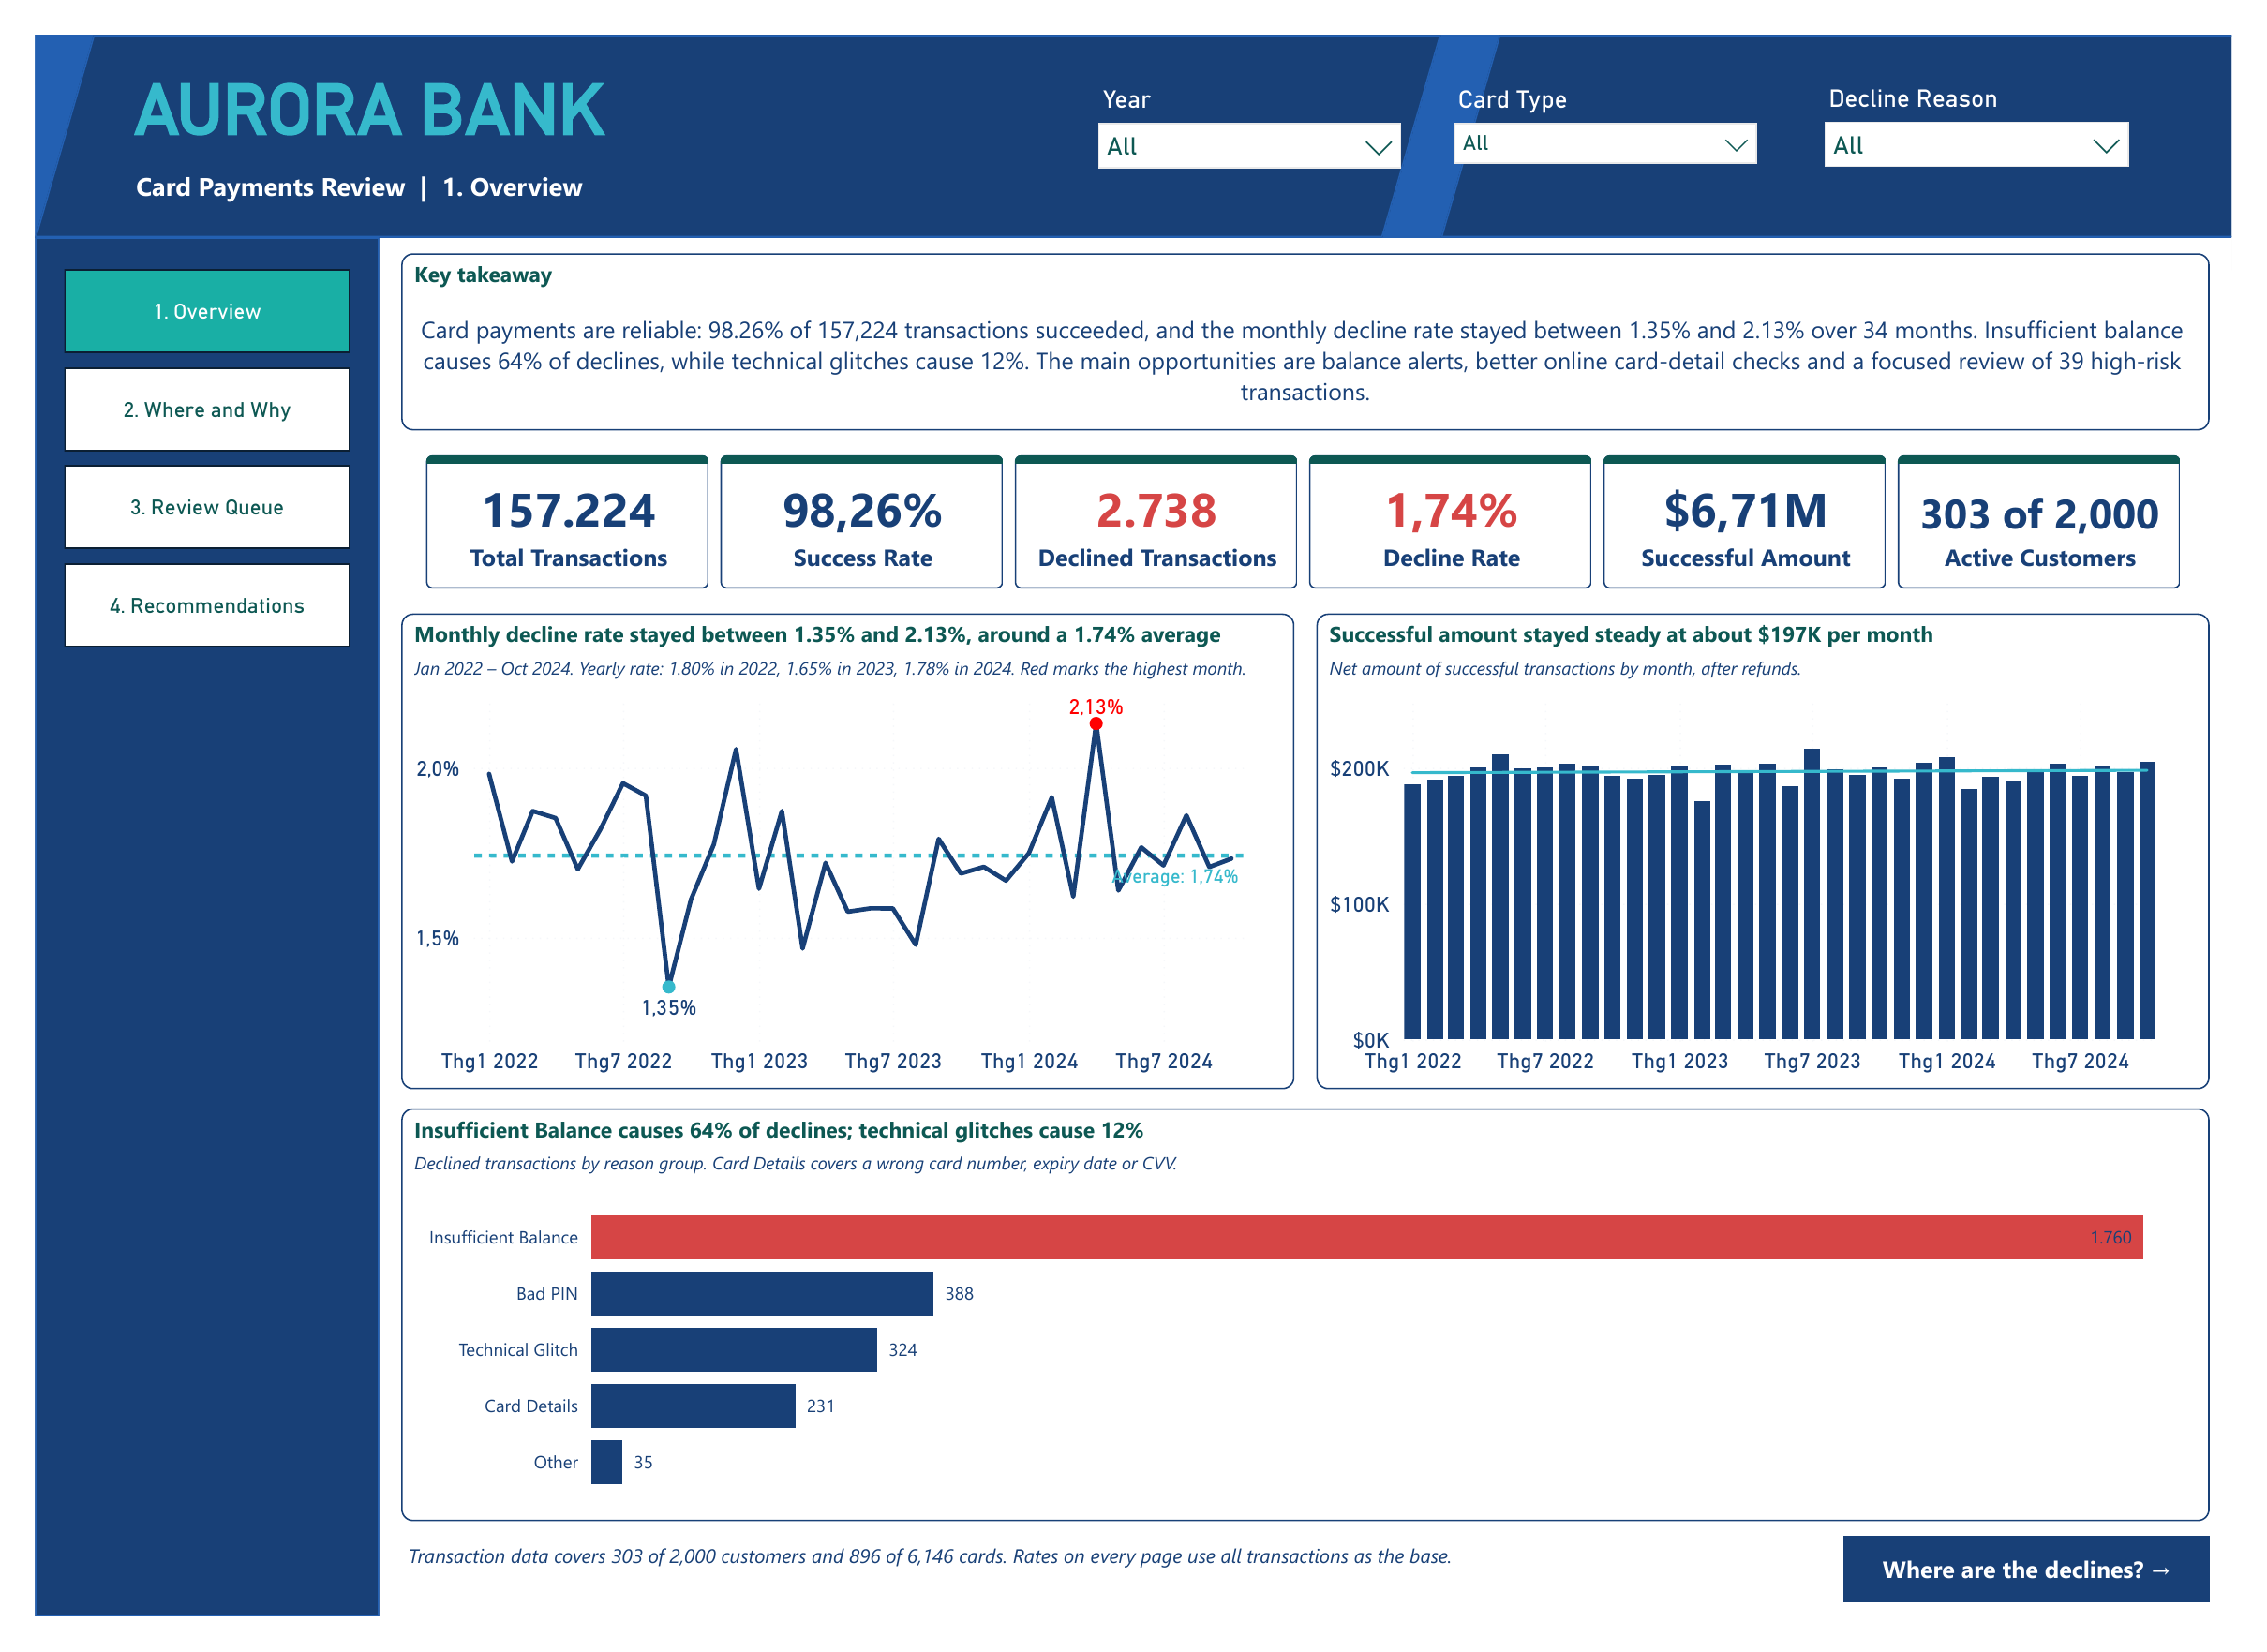

The dashboard page shown, as its layout file describes it:
{"tool":"powerbi","page":{"name":"1. Overview","canvas":[1500,1080],"ordinal":0},"visuals":[{"type":"shape","box":[0,0,1920,137.8],"z":0},{"type":"shape","box":[0,0,960,137.5],"z":1000},{"type":"shape","box":[960,0,960,137.5],"z":2000},{"type":"textbox","box":[62.5,18,345,67.5],"z":3000},{"type":"textbox","box":[64,86,600,34],"z":9500},{"type":"shape","box":[0,137.5,235,942.5],"z":10000},{"type":"pageNavigator","box":[20,160,195,260],"z":11000},{"type":"group","id":"g1","title":"Group 1","box":[716,28,724,74],"z":13000},{"type":"slicer","fields":{"Values":["cards_data.card_type"]},"box":[958.9,28.6,227.1,74.3],"z":16000,"group":"g1"},{"type":"slicer","fields":{"Values":["dim_error.Error Type"]},"box":[1211.7,28,228,74],"z":17000,"group":"g1"},{"type":"slicer","fields":{"Values":["dim_date.Year"]},"box":[716,28.6,227.1,74.3],"z":18000,"group":"g1"},{"type":"card","title":"Key takeaway","fields":{"Values":["_Measures.Executive Summary"]},"box":[250,148.8,1235,121.2],"z":20100},{"type":"cardVisual","fields":{"Data":["_Measures.Total Transactions All Reasons","_Measures.Success Rate","_Measures.Declined Transactions All Reasons","_Measures.Decline Rate All Reasons","_Measures.Successful Amount","_Measures.Active Customers Label"]},"box":[250,270,1235,125],"z":20200},{"type":"lineChart","fields":{"Category":["dim_date.Month Start"],"Y":["_Measures.Decline Rate","_Measures.Decline Rate Max Point","_Measures.Decline Rate Min Point"]},"box":[250,395,610,325],"z":20300},{"type":"clusteredColumnChart","fields":{"Category":["dim_date.Month Start"],"Y":["_Measures.Successful Amount"]},"box":[875,395,610,325],"z":20400},{"type":"clusteredBarChart","fields":{"Category":["dim_error.Decline Reason Group"],"Y":["_Measures.Declined Transactions"]},"box":[250,732.5,1235,282.5],"z":20500},{"type":"textbox","box":[250,1025,960,45],"z":20600},{"type":"actionButton","box":[1235,1025,250,45],"z":20700}]}

Visuals, with their boxes on the page's 1500x1080 design canvas (x1, y1, x2, y2). These are canvas units, not pixel positions in the 2267x1652 screenshot, which may show the page scaled, cropped or inside an application window:
shape: [0,0,1920,138]
shape: [0,0,960,138]
shape: [960,0,1920,138]
textbox: [62,18,408,86]
textbox: [64,86,664,120]
shape: [0,138,235,1080]
pageNavigator: [20,160,215,420]
"Group 1" group: [716,28,1440,102]
slicer - cards_data.card_type: [959,29,1186,103]
slicer - dim_error.Error Type: [1212,28,1440,102]
slicer - dim_date.Year: [716,29,943,103]
"Key takeaway" card: [250,149,1485,270]
cardVisual - _Measures.Total Transactions All Reasons x _Measures.Success Rate: [250,270,1485,395]
lineChart - dim_date.Month Start x _Measures.Decline Rate: [250,395,860,720]
clusteredColumnChart - dim_date.Month Start x _Measures.Successful Amount: [875,395,1485,720]
clusteredBarChart - dim_error.Decline Reason Group x _Measures.Declined Transactions: [250,732,1485,1015]
textbox: [250,1025,1210,1070]
actionButton: [1235,1025,1485,1070]
